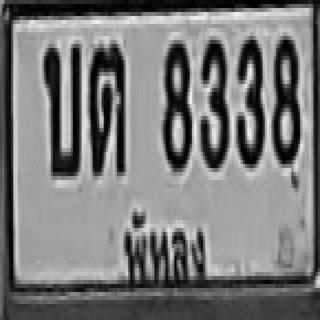A21: (88, 40, 124, 172)
A26: (42, 40, 80, 172)
N03: (234, 32, 263, 164), (199, 36, 227, 168)
N08: (161, 36, 190, 168), (272, 32, 298, 160)
P41: (109, 202, 221, 294)
